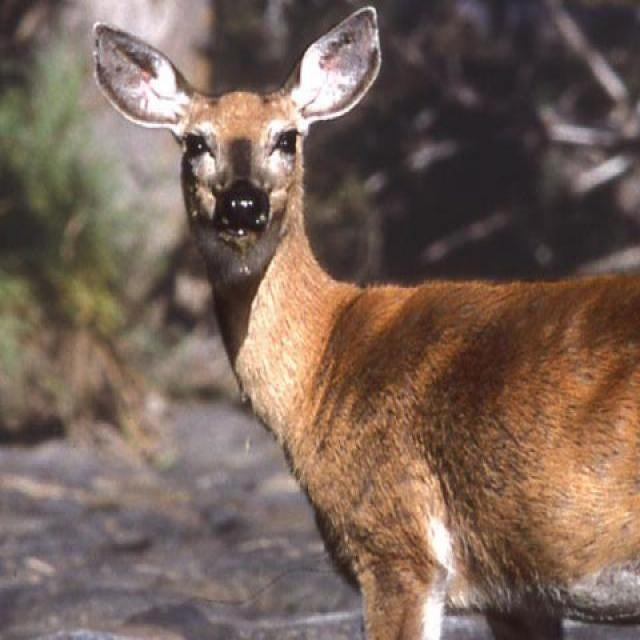deer: (89, 24, 640, 636)
